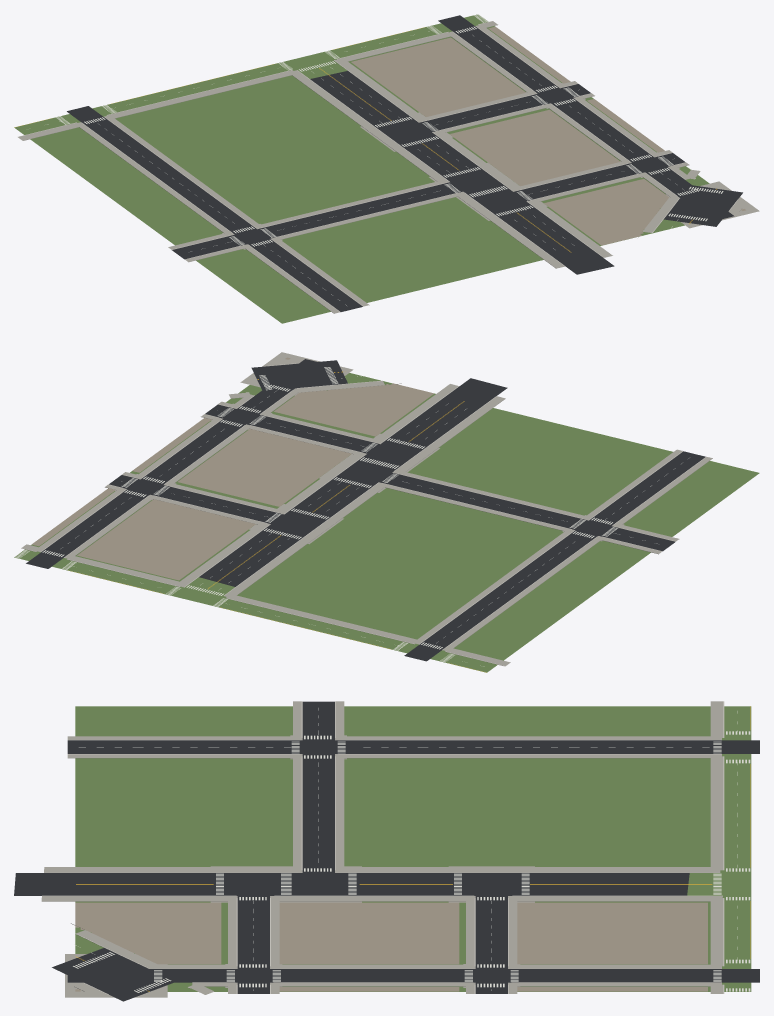
The model's file is Ground_2_3.fbx.
3 views of the same model, one above another, from view 1: azimuth 30°, elevation 25°; view 2: azimuth 150°, elevation 25°; view 3: azimuth 270°, elevation 25° (orthographic). The views are drawn at different scales.
Visible parts, largest first — view 1: Ground_2_3; view 2: Ground_2_3; view 3: Ground_2_3.
Part boxes in pixels (box(x1,y1,x2,y2)): Ground_2_3: box(14, 14, 759, 323); Ground_2_3: box(14, 352, 759, 672); Ground_2_3: box(14, 701, 759, 1001).
Size of the model in its own units: 263 by 0.14 by 276.
